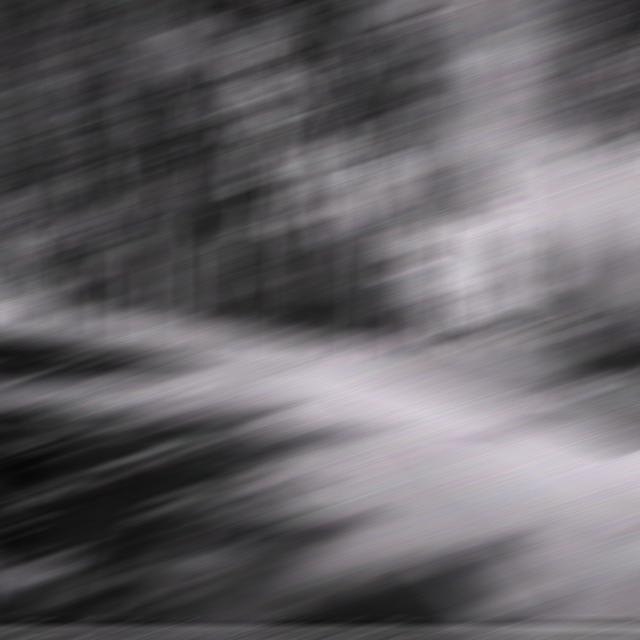pedestrianCrossing: (0, 240, 26, 257)
stop: (351, 160, 403, 215), (605, 271, 638, 299)
